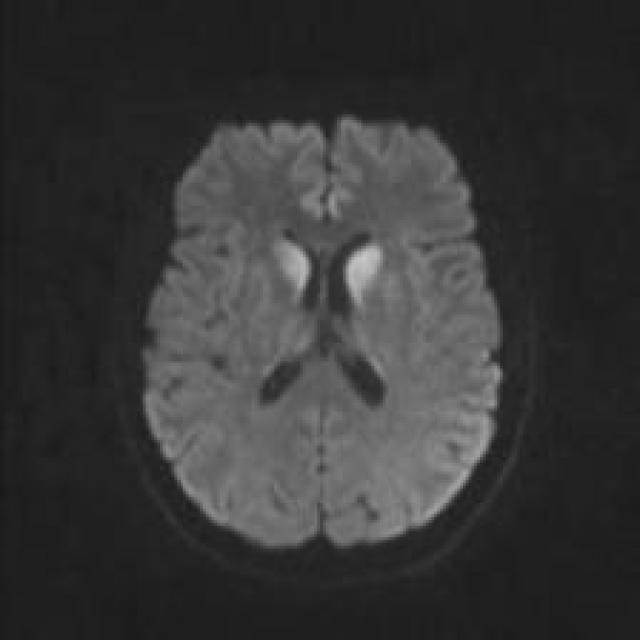no_tumor: (99, 52, 546, 588)
